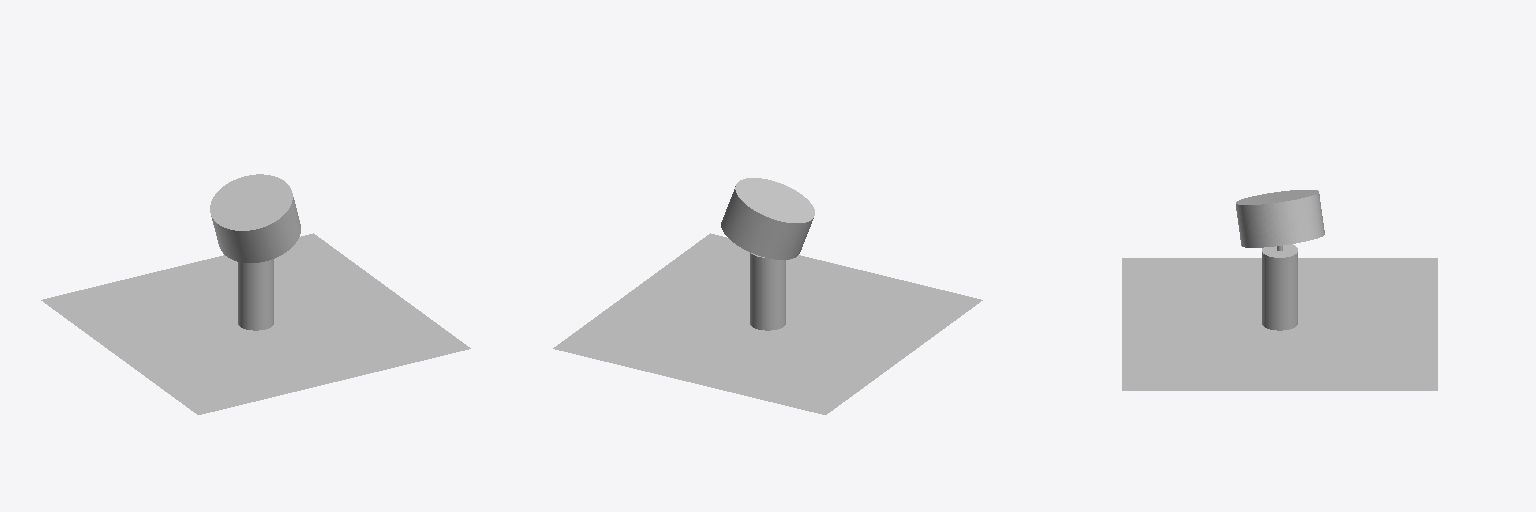
The model's file is lamp10.obj.
The picture shows the model from 3 angles: view 1: azimuth 30°, elevation 25°; view 2: azimuth 150°, elevation 25°; view 3: azimuth 270°, elevation 25°; orthographic projection.
Visible parts, largest first — view 1: Plane, Cylinder.002, Cylinder; view 2: Plane, Cylinder.002, Cylinder; view 3: Plane, Cylinder.002, Cylinder, Cylinder.001.
Boxes of the visible parts, x1=… form: Plane: x1=41, y1=233, x2=470, y2=414; Cylinder.002: x1=210, y1=174, x2=300, y2=262; Cylinder: x1=238, y1=260, x2=273, y2=330; Plane: x1=553, y1=233, x2=982, y2=414; Cylinder.002: x1=721, y1=178, x2=814, y2=259; Cylinder: x1=750, y1=260, x2=785, y2=330; Plane: x1=1122, y1=258, x2=1437, y2=390; Cylinder.002: x1=1236, y1=190, x2=1324, y2=247; Cylinder: x1=1262, y1=260, x2=1297, y2=330; Cylinder.001: x1=1262, y1=244, x2=1297, y2=264.
Bounding box in the file's own units: 17.18 × 8.22 × 17.18.